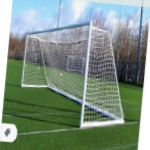goals: (21, 19, 128, 130)
